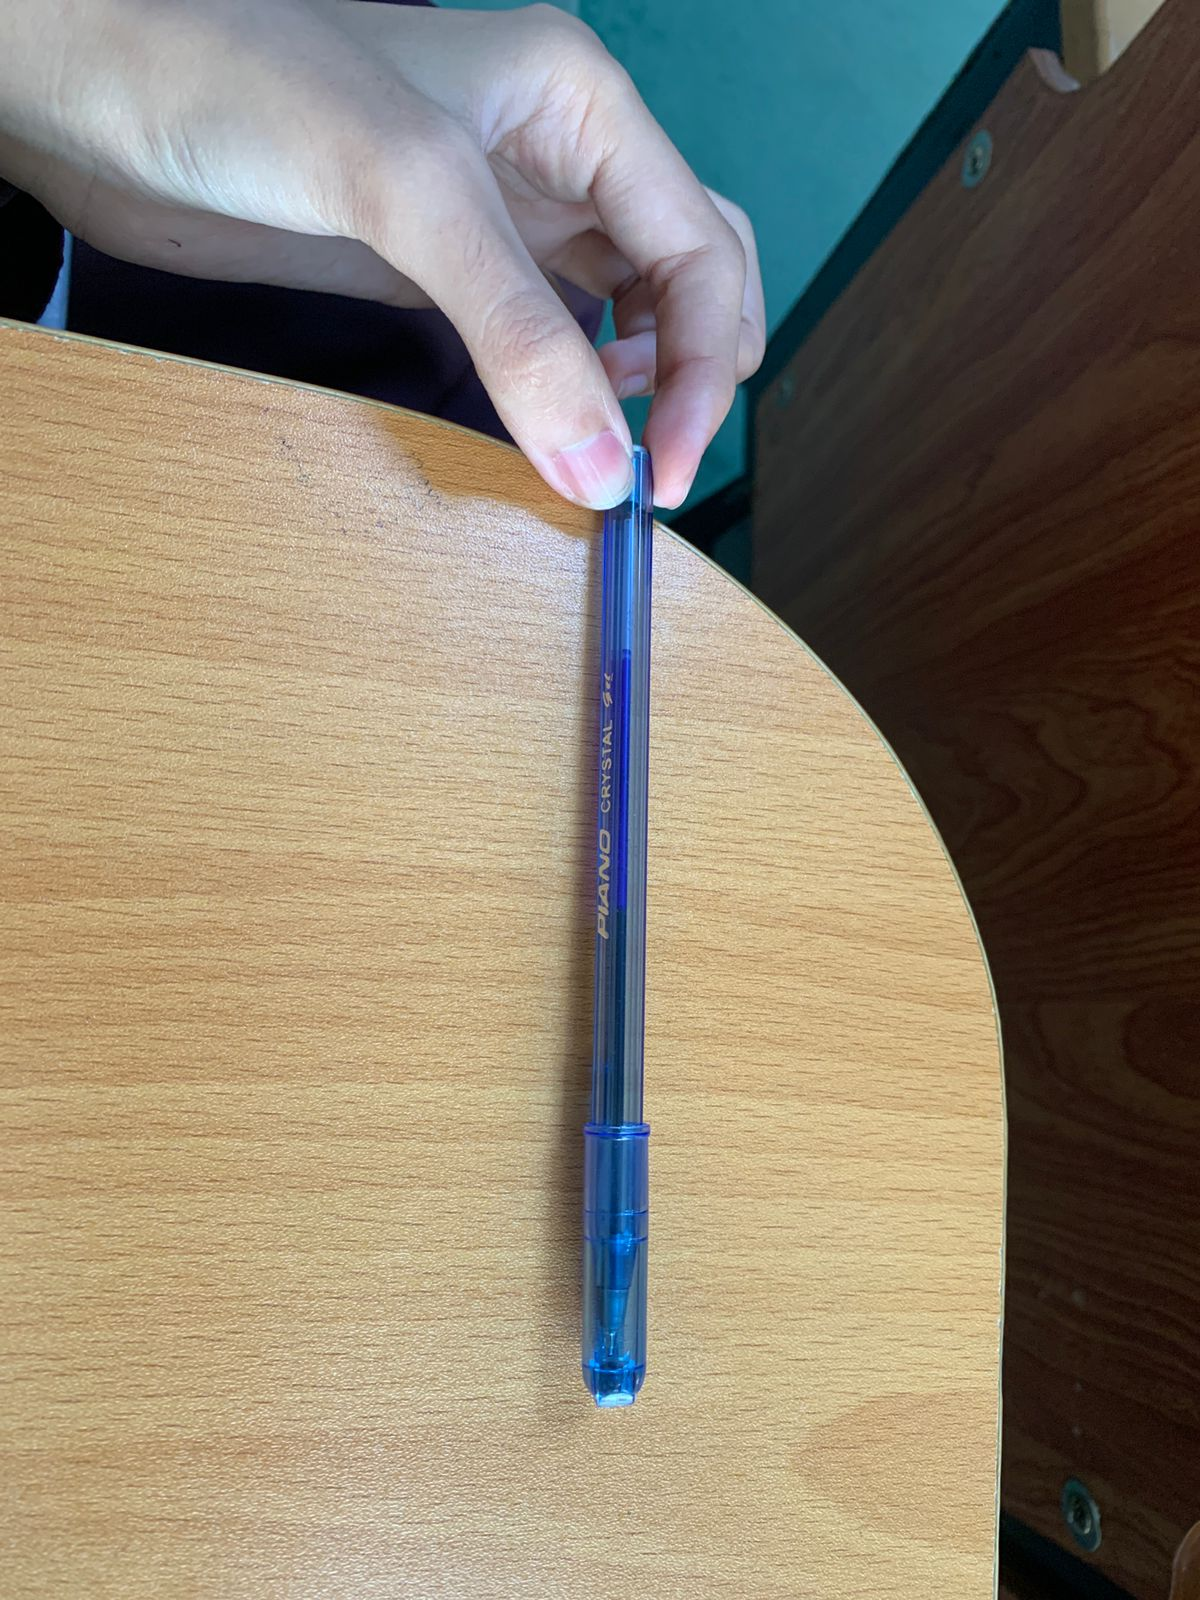pen: (463, 364, 771, 1448)
